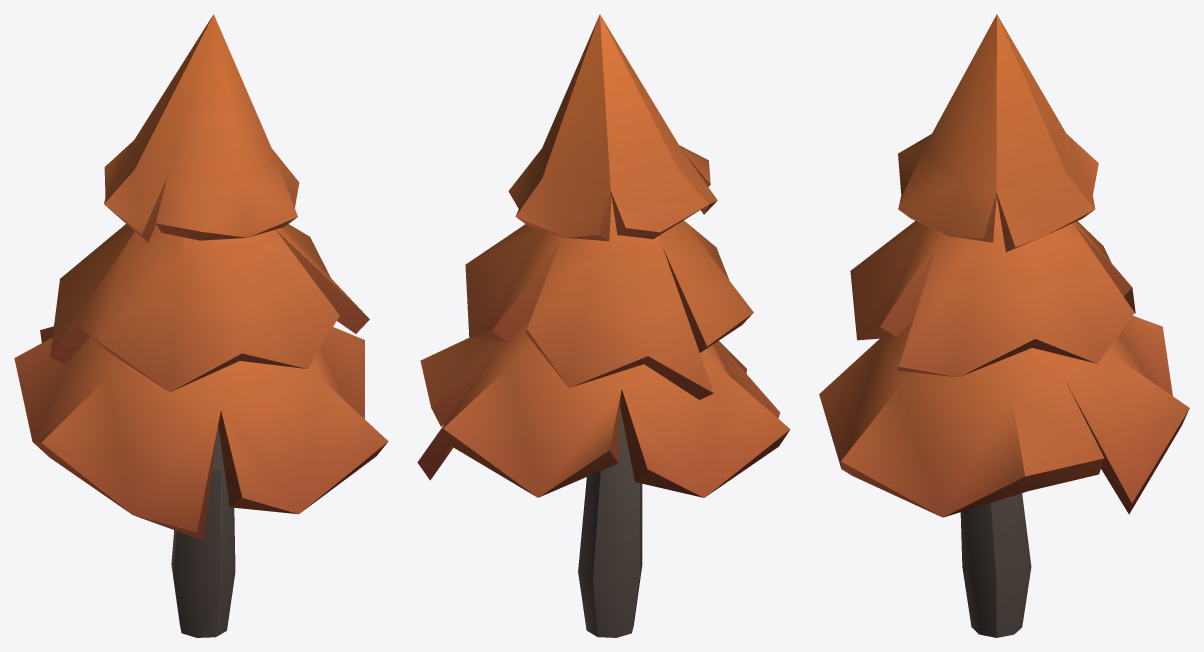
Rendered from tree-pine-orange-small.glb.
The picture shows the model from 3 angles, left to right: view 1: azimuth 30°, elevation 25°; view 2: azimuth 150°, elevation 25°; view 3: azimuth 270°, elevation 25°; orthographic projection.
Parts seen in each view (by area): view 1: tree_pine_orange_small; view 2: tree_pine_orange_small; view 3: tree_pine_orange_small.
Boxes of the visible parts, x1,y1,x2,y2 form: tree_pine_orange_small: [14, 14, 388, 637]; tree_pine_orange_small: [417, 14, 790, 637]; tree_pine_orange_small: [819, 14, 1189, 637].
Size of the model in its own units: 2.4 by 4.04 by 2.2.
1 material, 1 textured.
